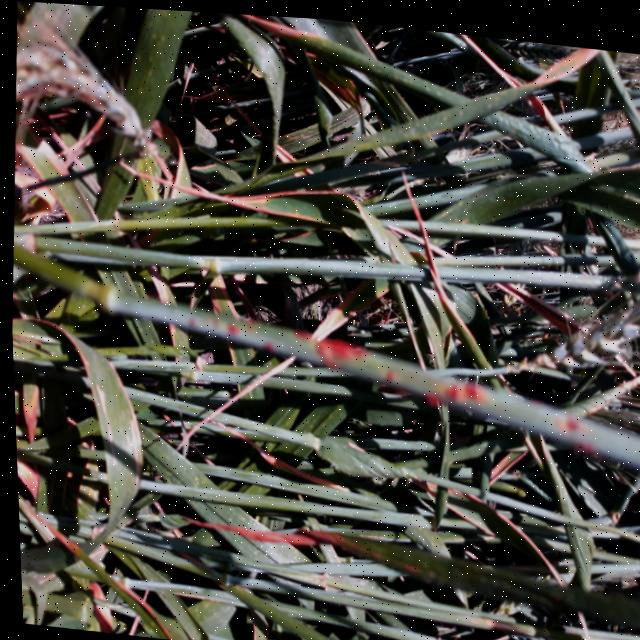black_stem_rust: (83, 249, 640, 486)
